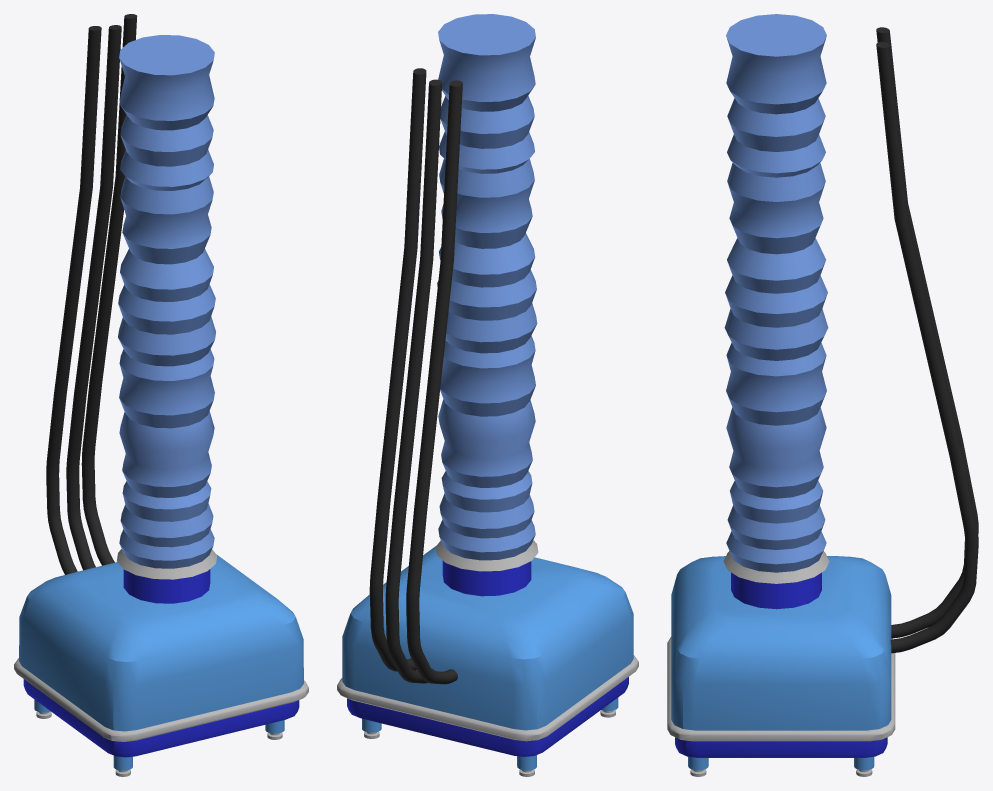
Rendered from hook.fbx.
3 renders of one model, left to right at view 1: azimuth 30°, elevation 25°; view 2: azimuth 150°, elevation 25°; view 3: azimuth 270°, elevation 25°, orthographic. The views are drawn at different scales.
Parts seen in each view (by area): view 1: Cylinder.050; view 2: Cylinder.050; view 3: Cylinder.050.
Boxes of the visible parts, left/top/right/bottom form: Cylinder.050: left=14, top=14, right=308, bottom=776; Cylinder.050: left=337, top=14, right=638, bottom=776; Cylinder.050: left=667, top=14, right=978, bottom=776.
Size of the model in its own units: 434 by 1370 by 551.
